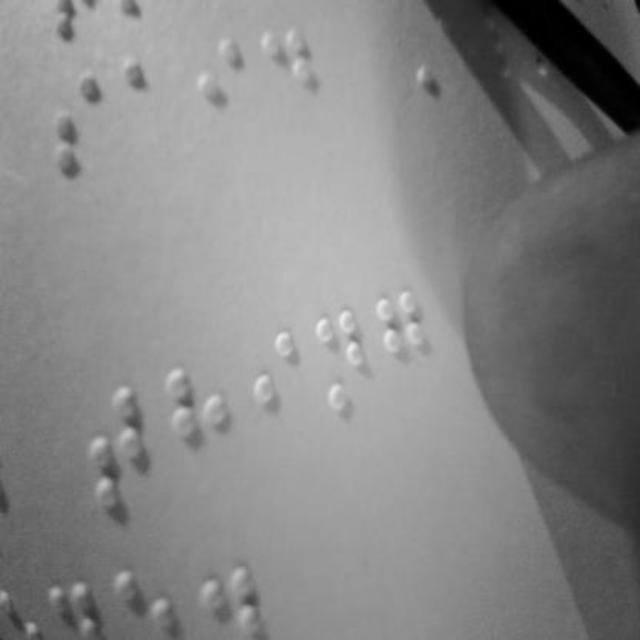braiile: (76, 378, 154, 518), (164, 363, 236, 487), (311, 308, 374, 442), (240, 327, 304, 451), (40, 66, 104, 178), (375, 284, 433, 406), (182, 33, 242, 139), (256, 23, 316, 129), (120, 48, 174, 152)
